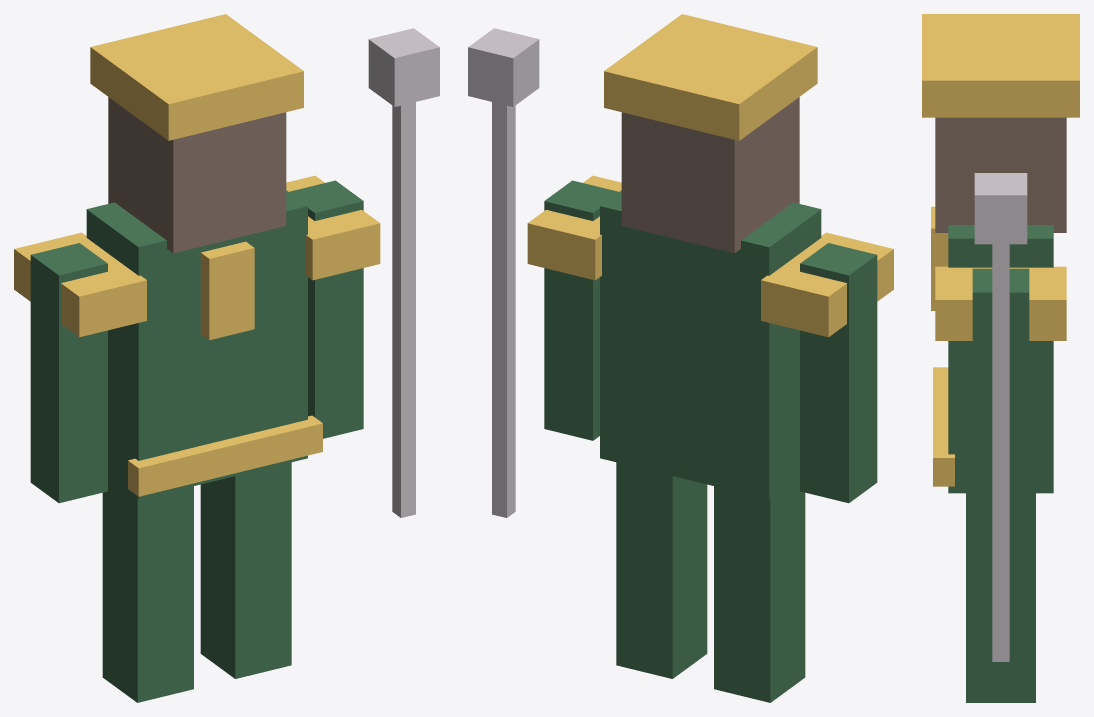
File: 09_maelis_wayfare_watcher_under.glb
3 renders of one model, left to right at view 1: azimuth 30°, elevation 25°; view 2: azimuth 150°, elevation 25°; view 3: azimuth 270°, elevation 25°, orthographic.
Parts seen in each view (by area): view 1: Maelis Wayfare, Watcher under; view 2: Maelis Wayfare, Watcher under; view 3: Maelis Wayfare, Watcher under.
Boxes of the visible parts, <box> form: Maelis Wayfare, Watcher under: <box>14,14,439,702</box>; Maelis Wayfare, Watcher under: <box>468,14,893,702</box>; Maelis Wayfare, Watcher under: <box>922,14,1079,702</box>.
Bounding box in the file's own units: 0.9608 × 1.47 × 0.3408.
